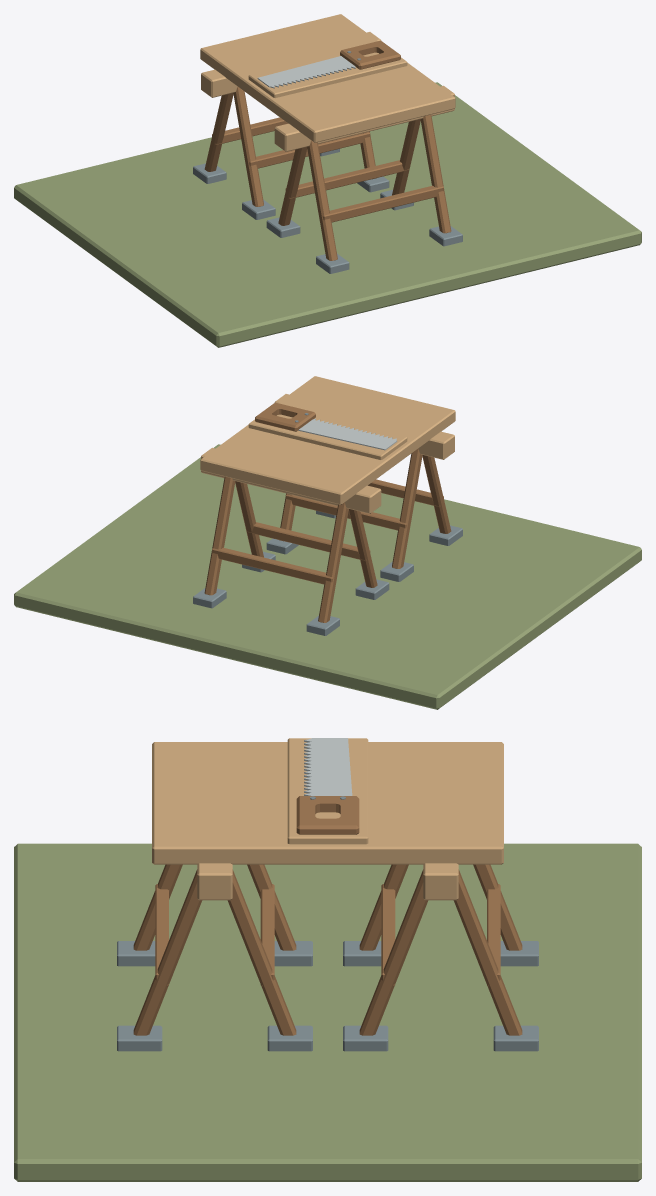
3 renders of one model, top to bottom at view 1: azimuth 30°, elevation 25°; view 2: azimuth 150°, elevation 25°; view 3: azimuth 270°, elevation 25°, orthographic. The views are drawn at different scales.
Visible parts, largest first — view 1: carpentry-work-corner-01; view 2: carpentry-work-corner-01; view 3: carpentry-work-corner-01.
Part boxes in pixels (<box>): carpentry-work-corner-01: <box>14,14,641,347</box>; carpentry-work-corner-01: <box>14,376,641,709</box>; carpentry-work-corner-01: <box>14,738,641,1181</box>.
Size of the model in its own units: 3 by 1.08 by 2.5.
